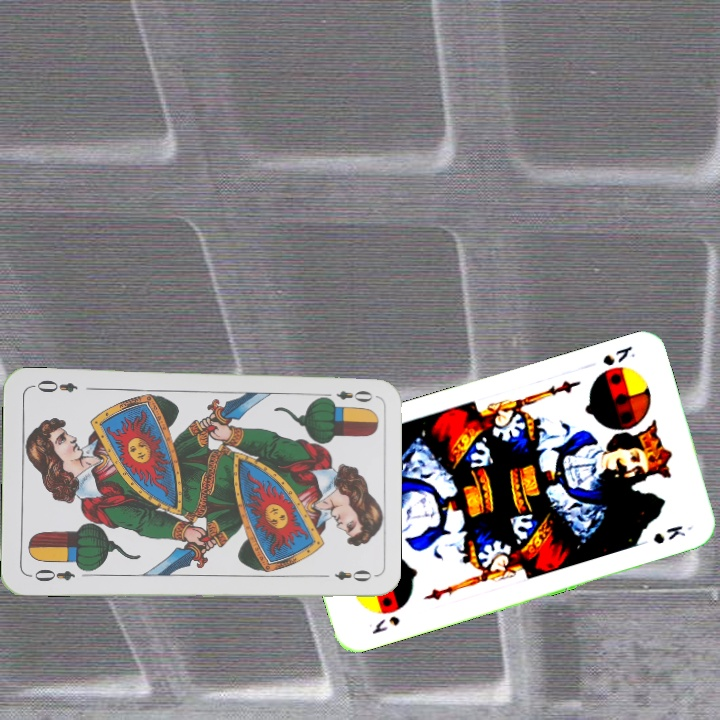EO: (318, 386, 375, 405), (25, 564, 77, 584)
SK: (598, 342, 638, 368), (368, 612, 403, 637)
